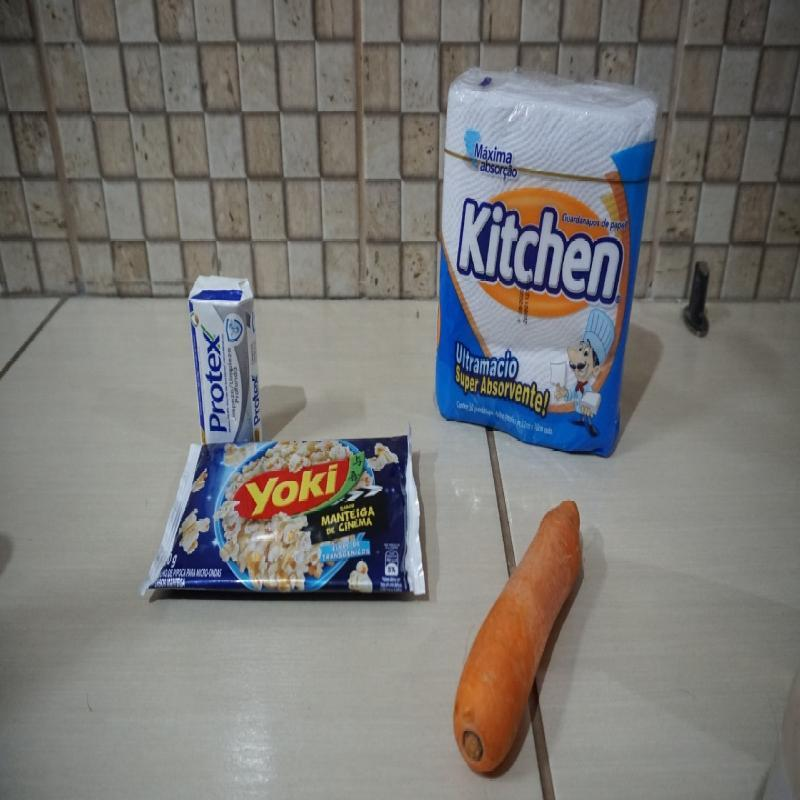Carrot: (453, 496, 582, 778)
Napkin: (434, 63, 657, 460)
Popcorn: (140, 431, 430, 604)
Soap: (188, 274, 264, 447)
